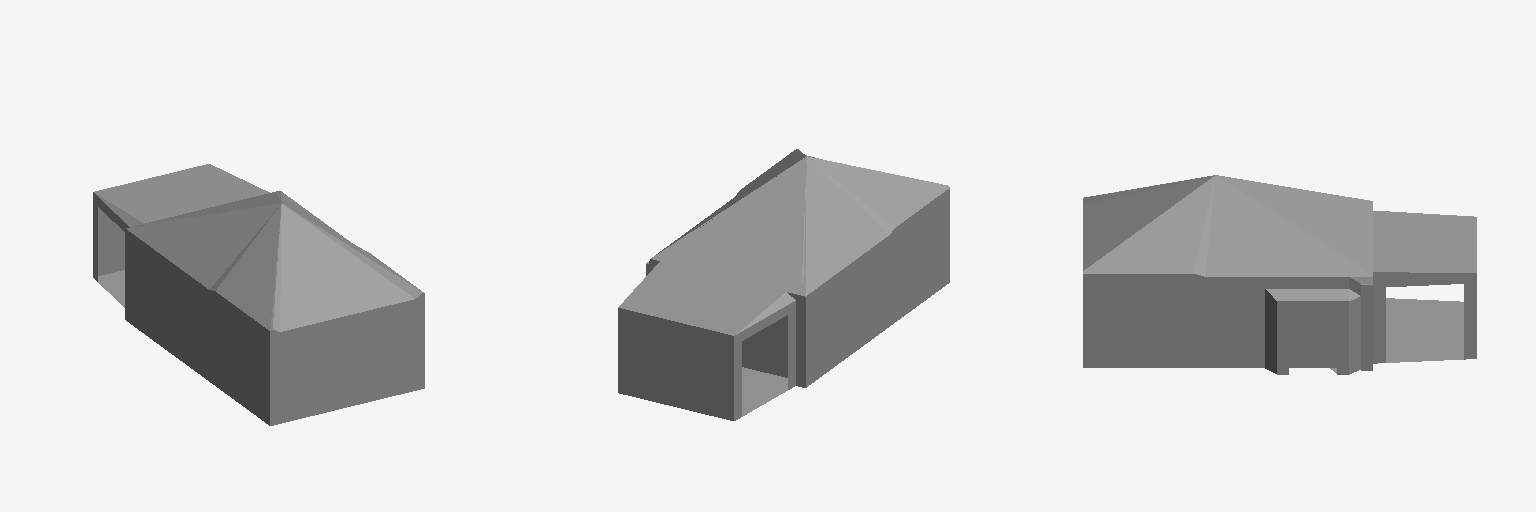
Rendered from houseWithGarage.obj.
3 renders of one model, left to right at view 1: azimuth 30°, elevation 25°; view 2: azimuth 150°, elevation 25°; view 3: azimuth 270°, elevation 25°, orthographic.
Parts seen in each view (by area): view 1: Cube; view 2: Cube; view 3: Cube.
Boxes of the visible parts, <box> form: Cube: <box>93,164,424,425</box>; Cube: <box>618,149,949,420</box>; Cube: <box>1083,175,1476,374</box>.
Bounding box in the file's own units: 4.56 × 4.04 × 9.25.